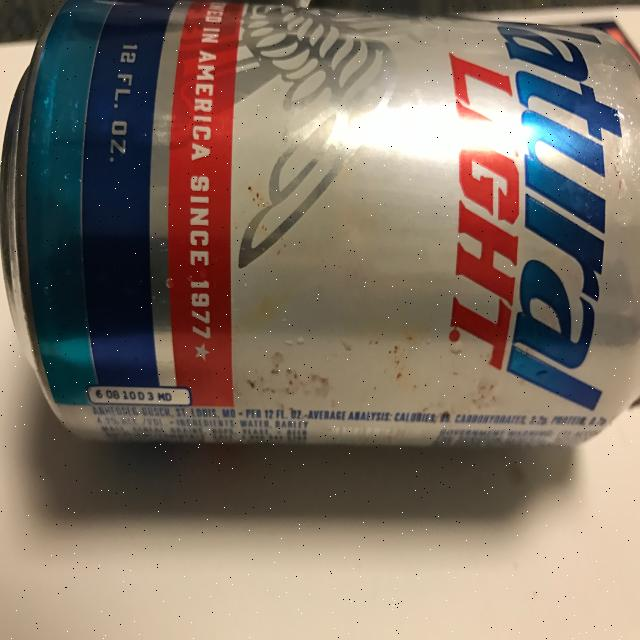metal: (1, 1, 638, 450)
